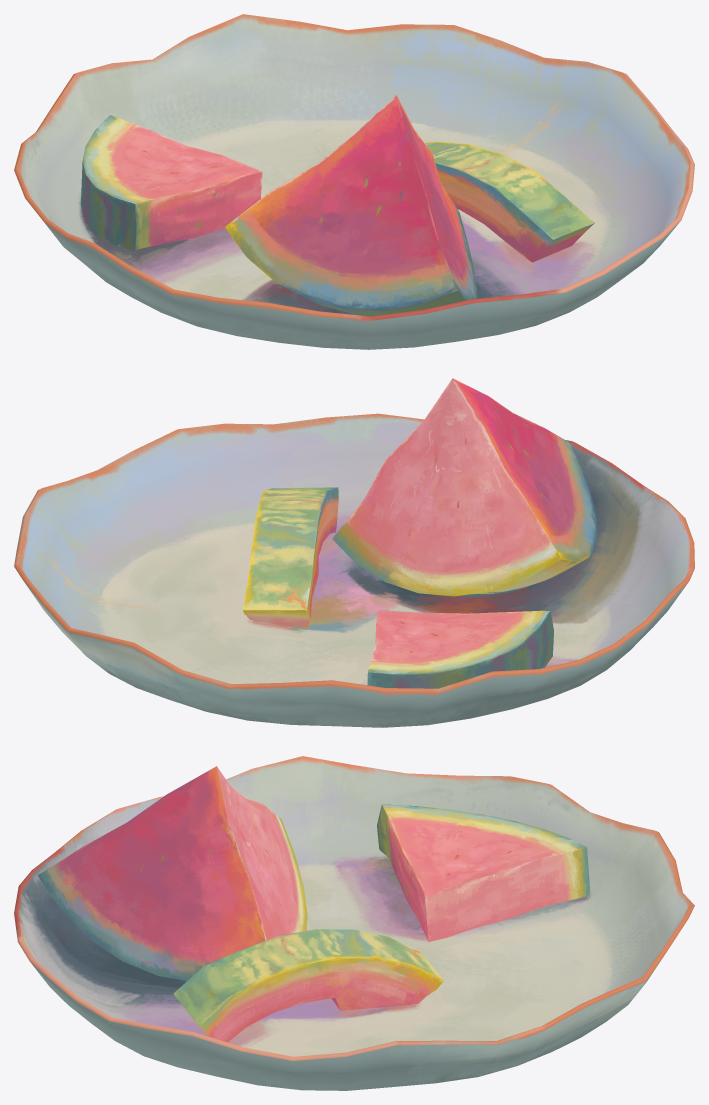
Rendered from asset.glb.
3 views of the same model, one above another, from view 1: azimuth 30°, elevation 25°; view 2: azimuth 150°, elevation 25°; view 3: azimuth 270°, elevation 25° (orthographic).
Visible parts, largest first — view 1: Circle_5, Sphere_2, Sphere.001_3, Sphere.002_4; view 2: Circle_5, Sphere_2, Sphere.001_3, Sphere.002_4; view 3: Circle_5, Sphere_2, Sphere.001_3, Sphere.002_4.
Boxes of the visible parts, box(x1,y1,x2,y2) form: Circle_5: box(14, 14, 694, 349); Sphere_2: box(224, 95, 476, 316); Sphere.001_3: box(81, 115, 262, 250); Sphere.002_4: box(425, 141, 594, 262); Circle_5: box(14, 413, 694, 727); Sphere_2: box(332, 378, 597, 596); Sphere.001_3: box(367, 610, 553, 688); Sphere.002_4: box(243, 487, 338, 627); Circle_5: box(14, 756, 694, 1090); Sphere_2: box(38, 766, 307, 980); Sphere.001_3: box(377, 804, 590, 941); Sphere.002_4: box(173, 929, 443, 1042).
Size of the model in its own units: 10.07 by 3.31 by 10.18.
1 material, 1 textured.
